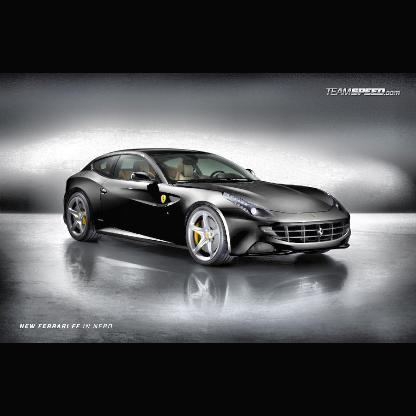Ferrari FF Coupe 2012: (64, 149, 352, 267)
